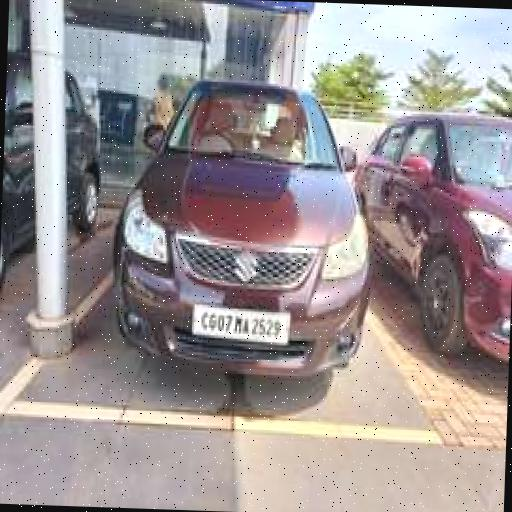license_plate`: (190, 302, 288, 338)
